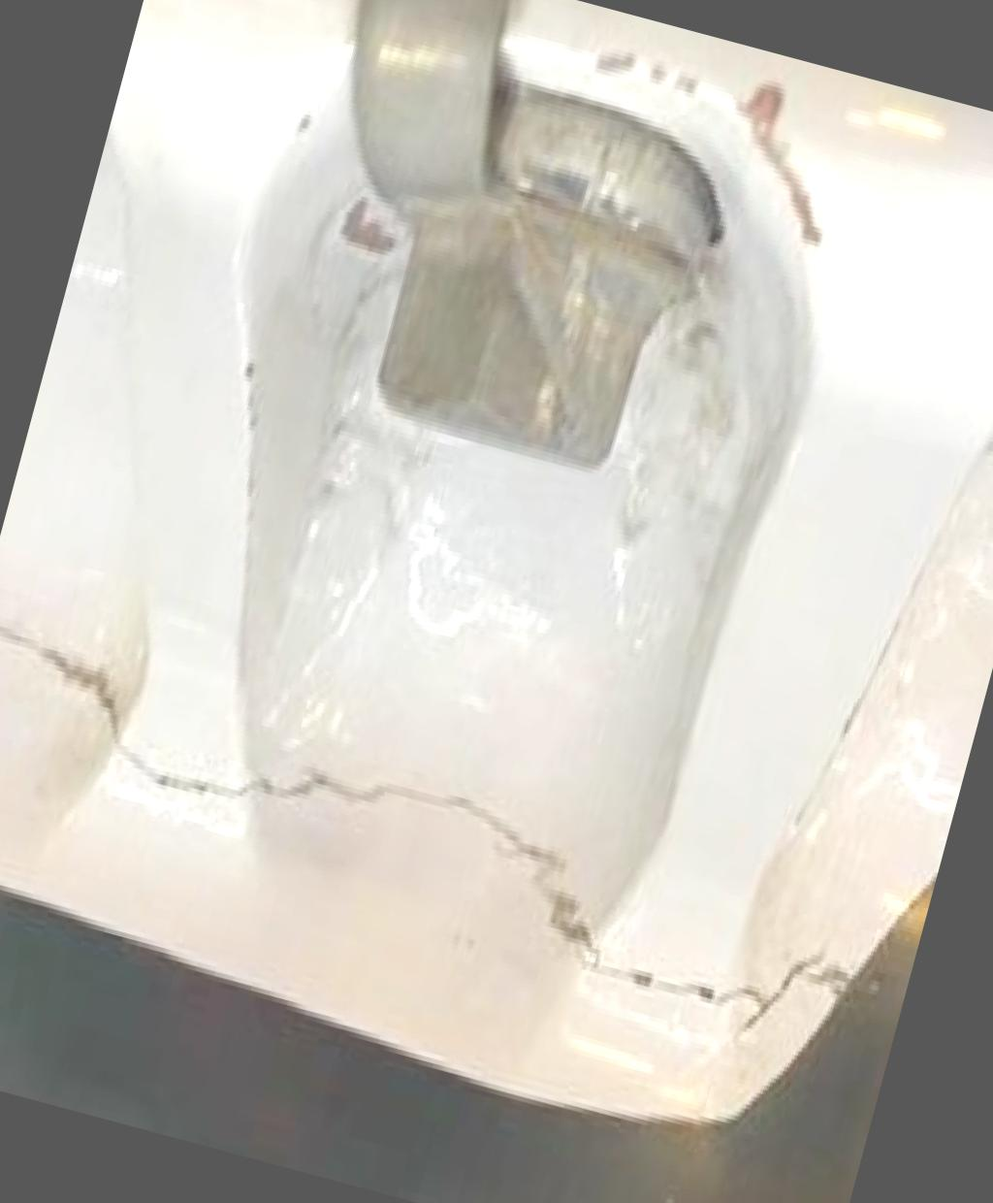crack: (0, 584, 894, 1059)
